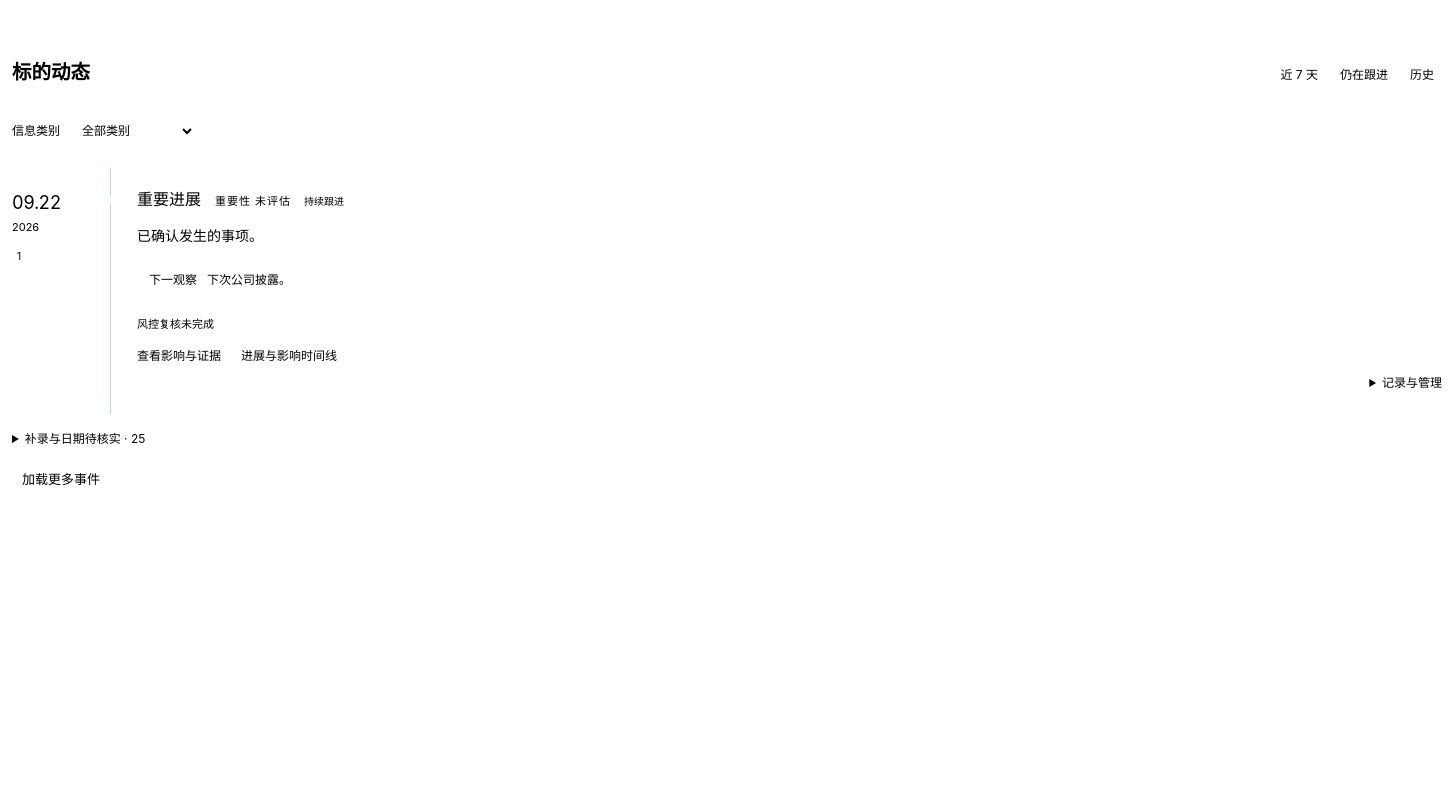
Test: discloses the full backfill count and retains undated records when another event page is loaded
What coordinates should you click on to do the following:
click the button "加载更多事件"
I would click on:
 (61, 480)
Its box is [12,464,110,496].
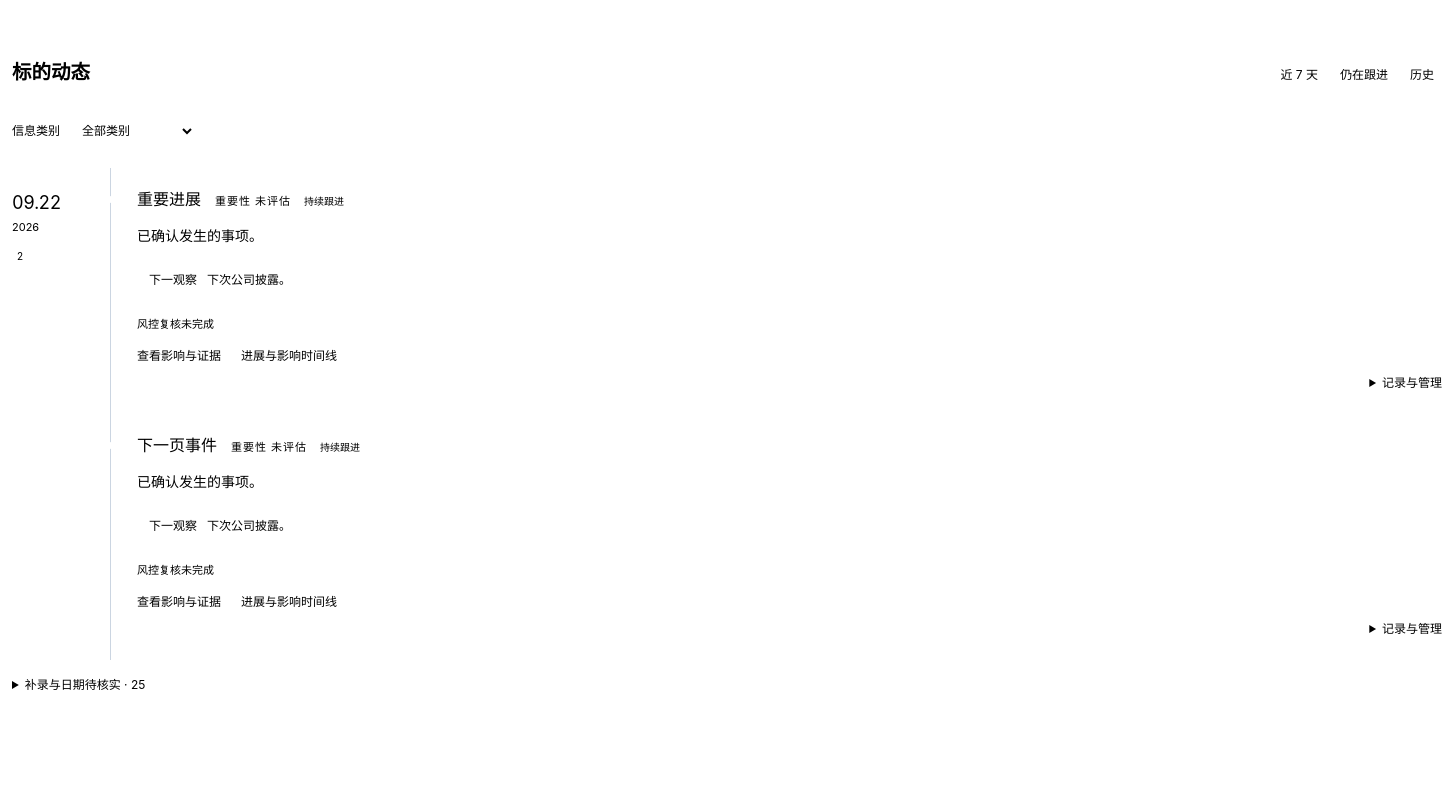
Expected: the heading "下一页事件" is shown, [137,432,217,459]
What coordinates should you click on to do the following:
click the heading "补录与日期待核实 · 25"
I would click on:
 (85, 685)
Its box is [25,677,145,692].
(page scrolled)
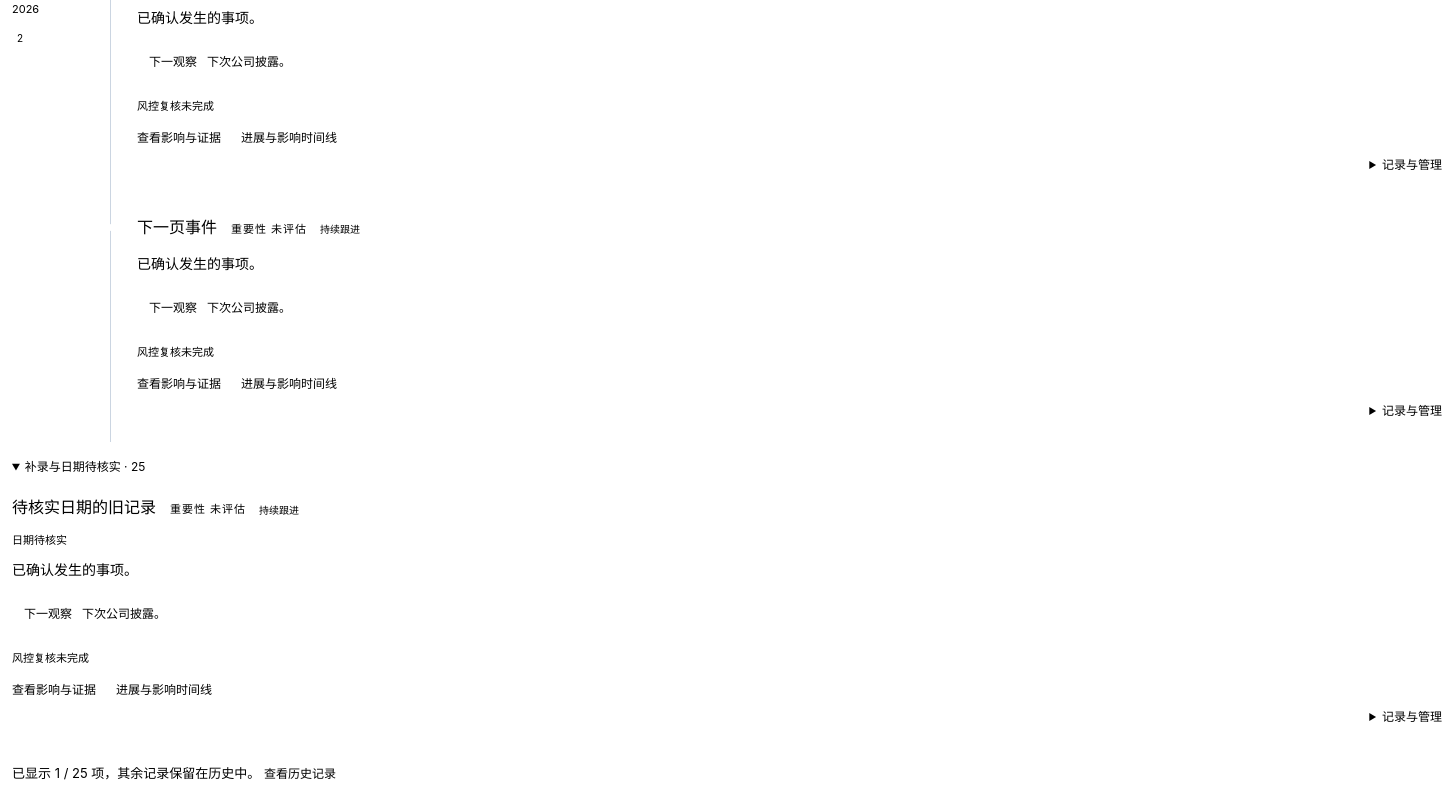
Expected: the heading "待核实日期的旧记录" is shown, [12,494,156,522]
Expected: the text "已显示 1 / 25 项，其余记录保留在历史中。 查看历史记录" is shown, [12,761,336,788]
What coordinates should you click on to do the following:
click the button "查看历史记录"
I would click on:
 (300, 774)
Its box is [264,761,336,788].
(page scrolled)
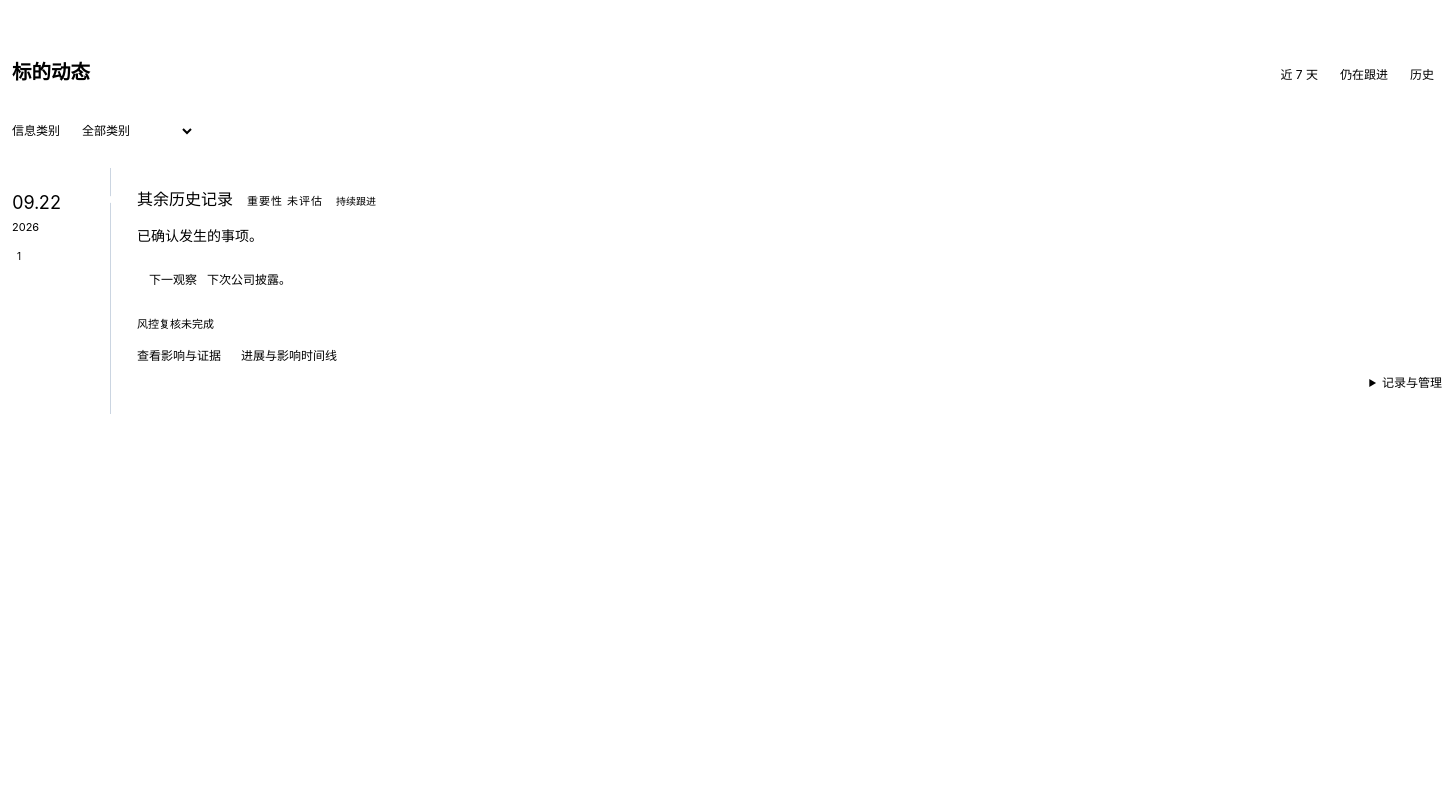
Expected: the heading "其余历史记录" is shown, [137,186,233,213]
